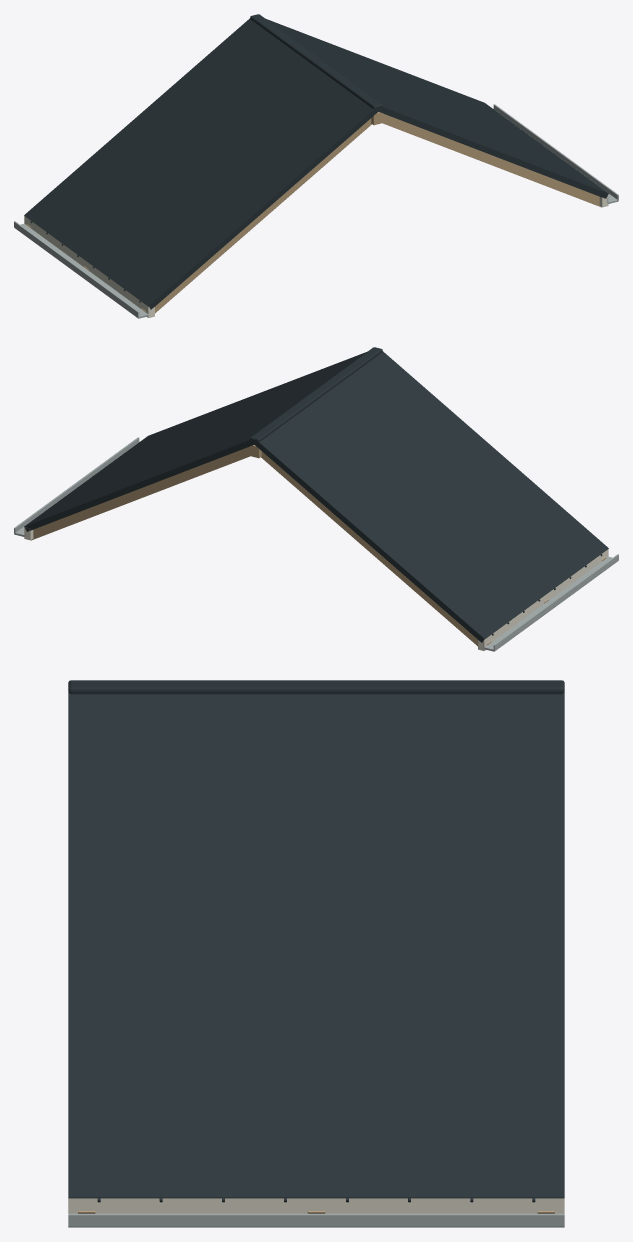
The model's file is warehouse_roof_8x4.glb.
The picture shows the model from 3 angles, top to bottom: view 1: azimuth 30°, elevation 25°; view 2: azimuth 150°, elevation 25°; view 3: azimuth 270°, elevation 25°; orthographic projection. The views are drawn at different scales.
Parts seen in each view (by area): view 1: Structure; view 2: Structure; view 3: Structure.
Part boxes in pixels (x1,y1,x2,y2): Structure: [14, 14, 618, 318]; Structure: [14, 347, 618, 651]; Structure: [68, 680, 564, 1227].
Bounding box in the file's own units: 8.95 × 2.83 × 4.
